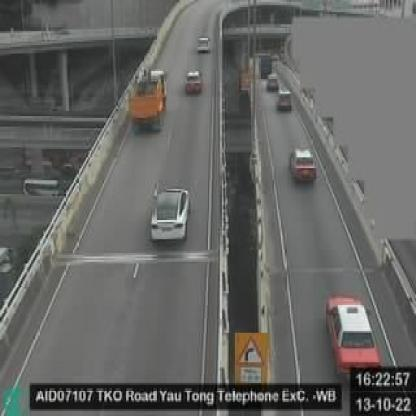Car: (323, 294, 383, 377), (148, 185, 191, 243), (289, 146, 318, 184), (186, 68, 204, 92), (276, 89, 293, 112), (196, 32, 211, 52), (268, 74, 280, 90)
Truck: (127, 66, 168, 130), (258, 52, 273, 76)
